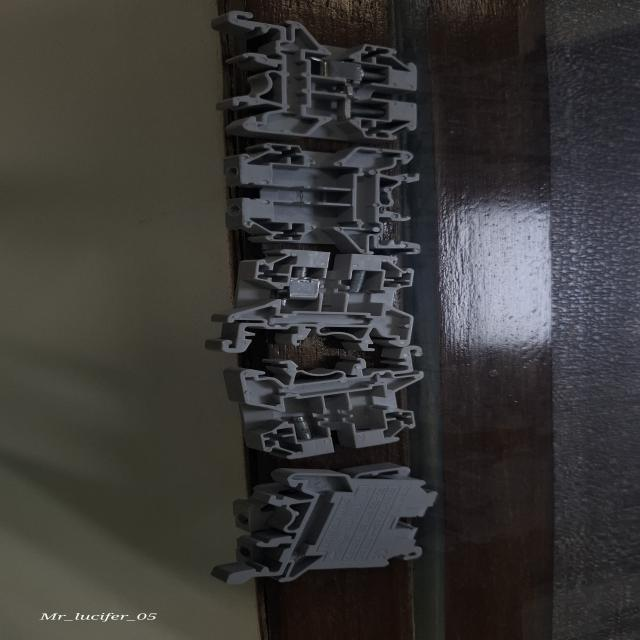Inverted: (233, 464, 424, 586)
Reject: (214, 8, 427, 146), (225, 140, 428, 254), (218, 248, 422, 354), (220, 348, 419, 456)
